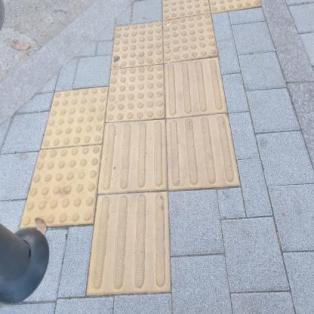Podoctatil: (14, 0, 266, 303)
